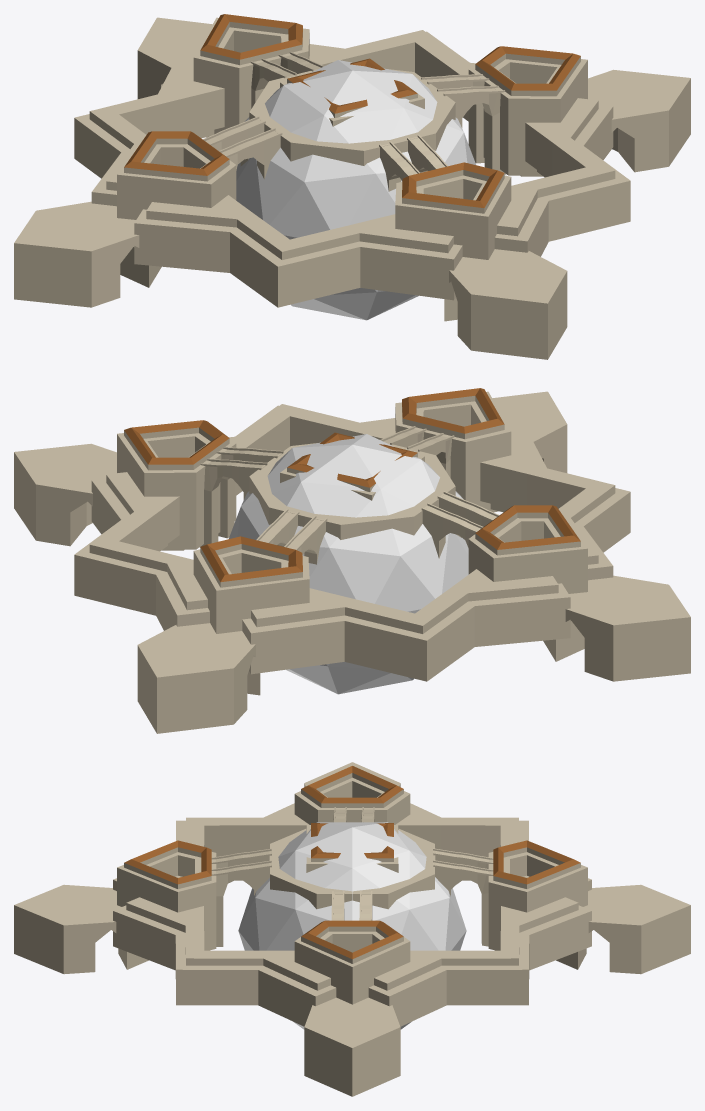
The model's file is bastion_exportTest2.glb.
The picture shows the model from 3 angles, top to bottom: view 1: azimuth 30°, elevation 25°; view 2: azimuth 150°, elevation 25°; view 3: azimuth 270°, elevation 25°; orthographic projection. The views are drawn at different scales.
Visible parts, largest first — view 1: Icosphere, wall_outer_southwest.001, gate_west.001, gate.003, tower_east.001, tower_south.001, tower_west.001, gate_east.001, wall_outer_southeast.001, tower_north.001, wall_inner_southwest.001, wall_inner_southeast.001 (+16 smaller); view 2: Icosphere, wall_outer_northwest.001, gate_west.001, gate_north.001, tower_east.001, tower_north.001, tower_west.001, gate_east.001, tower_south.001, wall_outer_northeast.001, wall_inner_northwest.001, wall_inner_northeast.001 (+16 smaller); view 3: Icosphere, wall_outer_northeast.001, wall_outer_southeast.001, gate_east.001, gate_north.001, gate.003, tower_east.001, tower_north.001, tower_south.001, tower_west.001, wall_inner_northeast.001, wall_inner_southeast.001 (+10 smaller).
Boxes of the visible parts, x1,y1,x2,y2 form: Icosphere: (236, 60, 475, 320); wall_outer_southwest.001: (134, 209, 462, 307); gate_west.001: (14, 201, 161, 307); gate.003: (444, 249, 567, 359); tower_east.001: (468, 46, 587, 176); tower_south.001: (395, 162, 511, 259); tower_west.001: (117, 131, 236, 219); gate_east.001: (588, 69, 690, 172); wall_outer_southeast.001: (494, 104, 630, 256); tower_north.001: (193, 14, 309, 137); wall_inner_southwest.001: (146, 195, 453, 259); wall_inner_southeast.001: (497, 98, 615, 236); Icosphere: (229, 434, 468, 694); wall_outer_northwest.001: (242, 583, 570, 681); gate_west.001: (543, 575, 690, 681); gate_north.001: (137, 623, 260, 733); tower_east.001: (117, 420, 236, 550); tower_north.001: (193, 536, 309, 633); tower_west.001: (468, 505, 587, 593); gate_east.001: (14, 443, 116, 546); tower_south.001: (395, 388, 511, 512); wall_outer_northeast.001: (74, 478, 209, 630); wall_inner_northwest.001: (251, 569, 558, 633); wall_inner_northeast.001: (89, 472, 207, 610); Icosphere: (238, 822, 466, 1029); wall_outer_northeast.001: (368, 905, 591, 1026); wall_outer_southeast.001: (113, 905, 336, 1026); gate_east.001: (304, 997, 400, 1096); gate_north.001: (556, 884, 690, 974); gate.003: (14, 884, 148, 974); tower_east.001: (294, 920, 410, 1004); tower_north.001: (488, 840, 587, 950); tower_south.001: (117, 840, 216, 950); tower_west.001: (294, 766, 410, 824); wall_inner_northeast.001: (374, 897, 578, 990); wall_inner_southeast.001: (126, 897, 330, 990).
Bounding box in the file's own units: 397 × 134 × 397.
